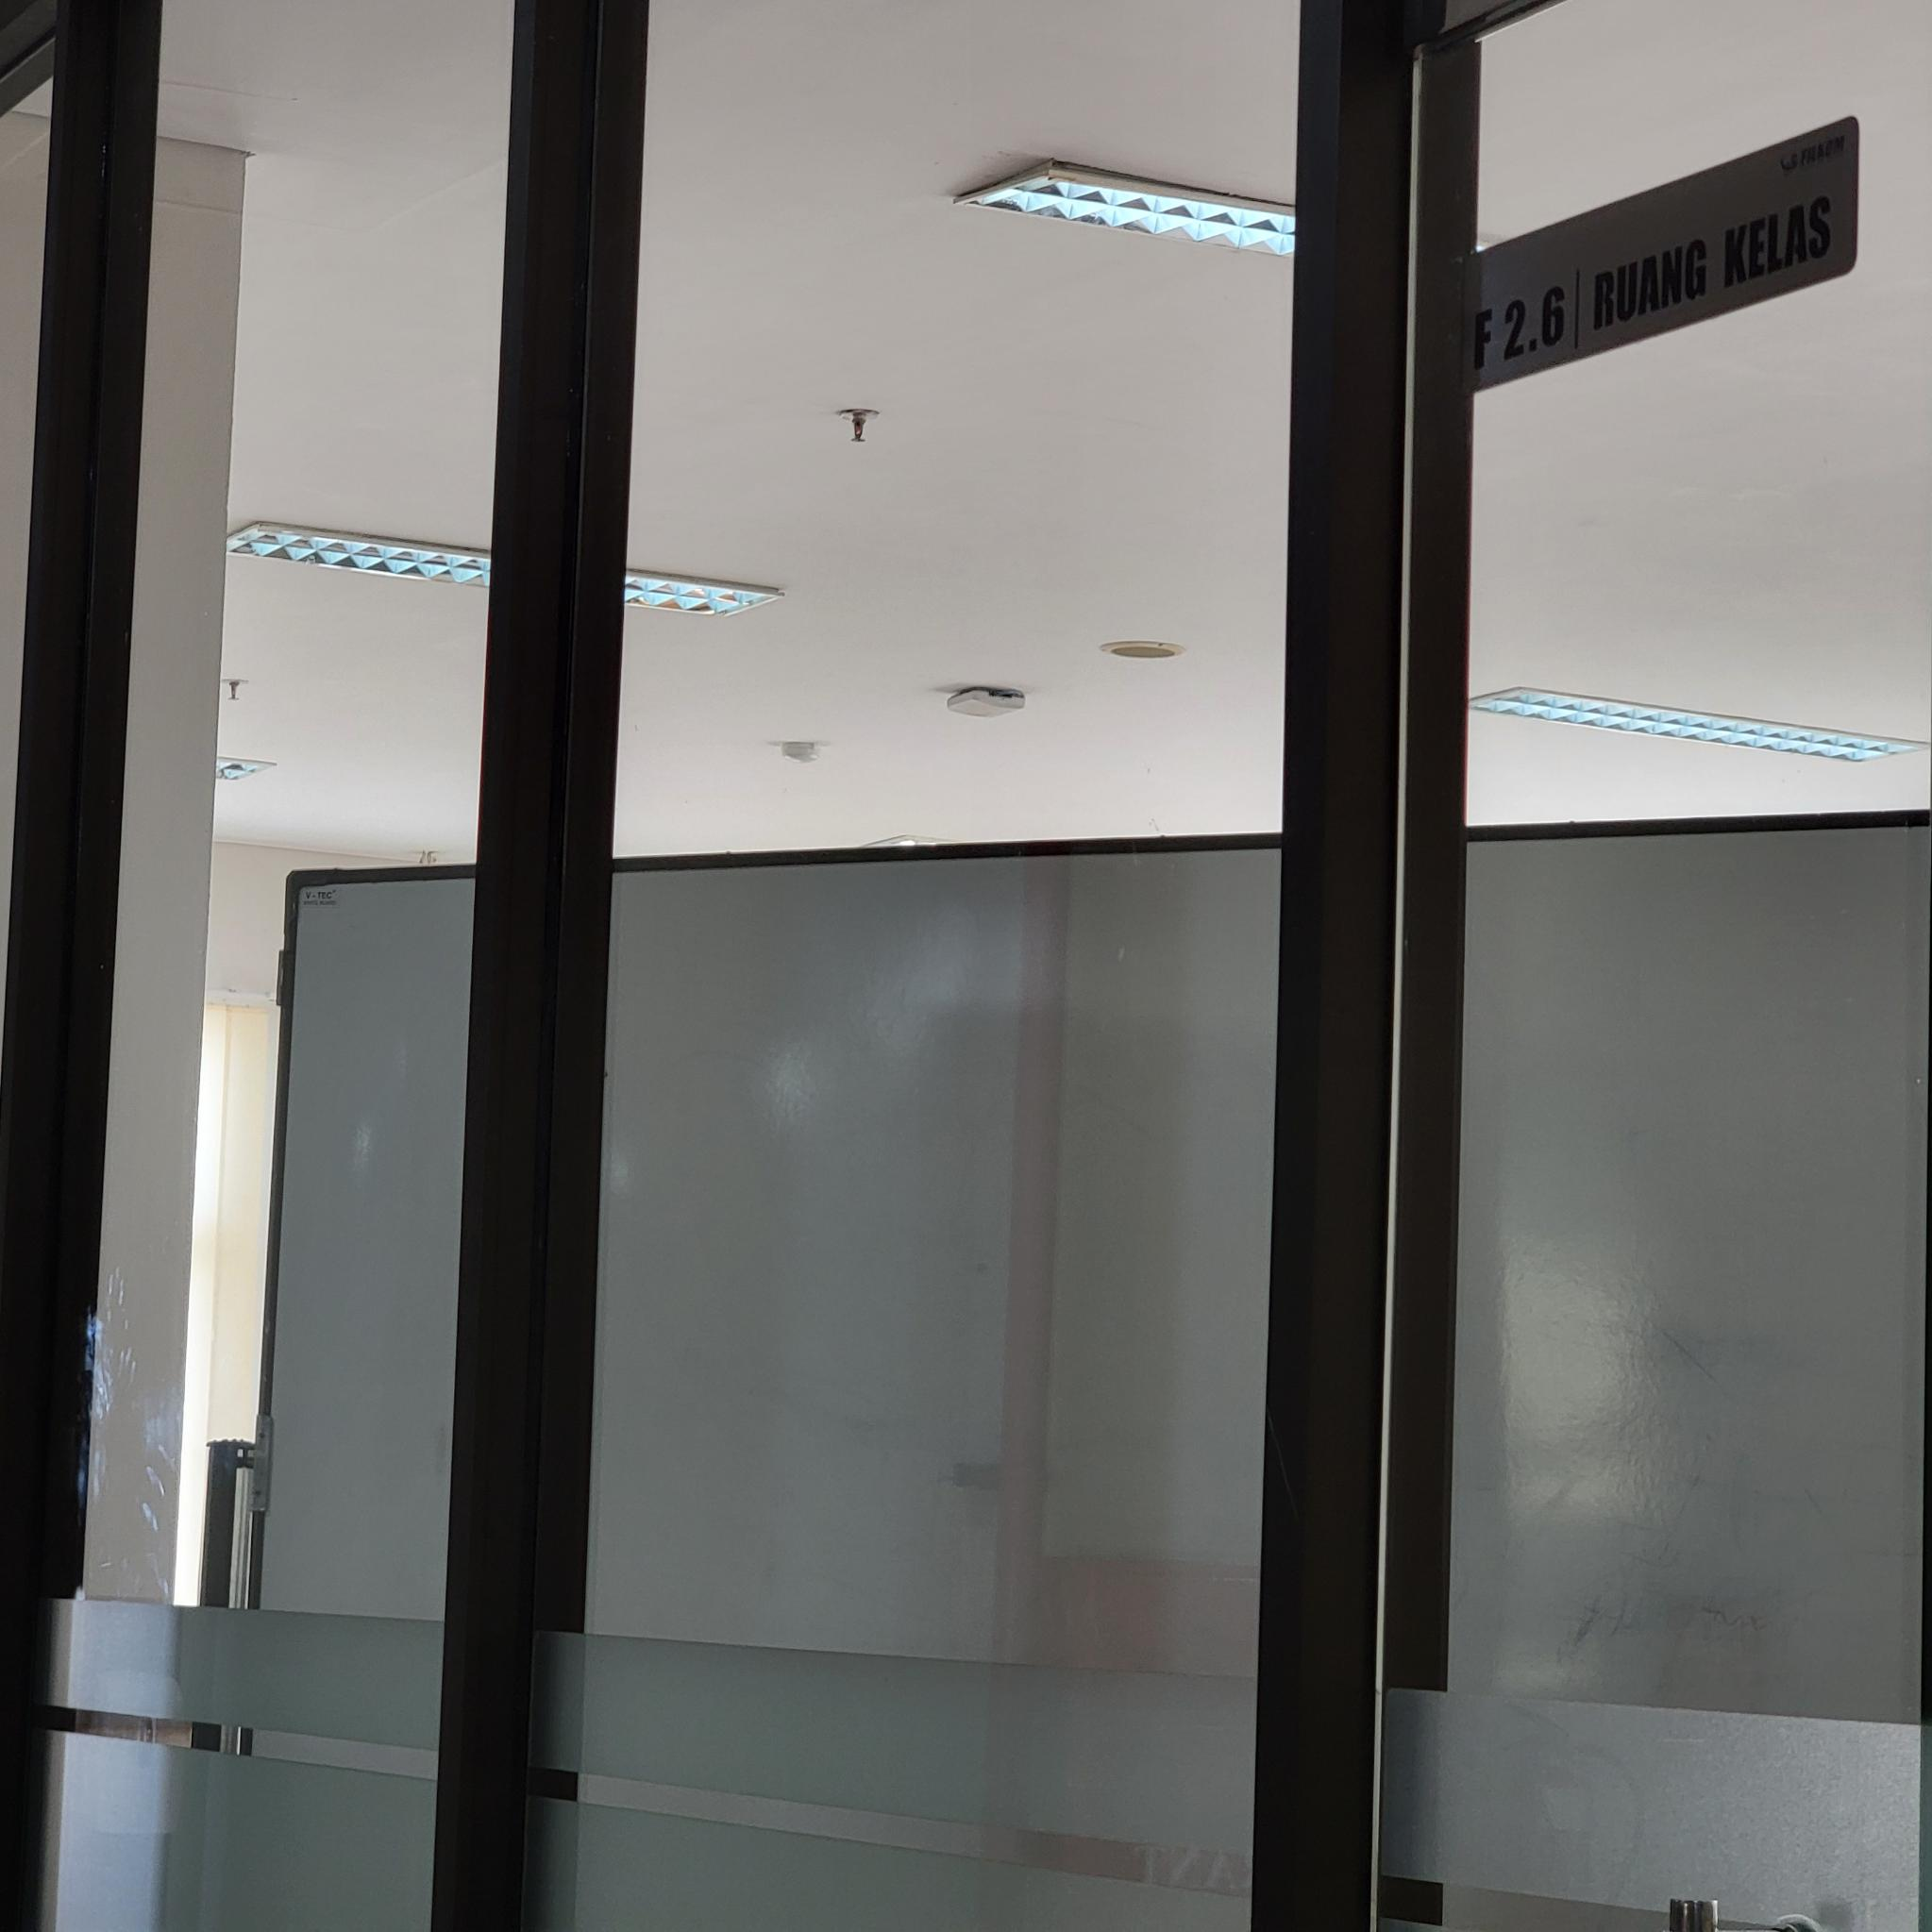plate: (1456, 111, 1861, 396)
